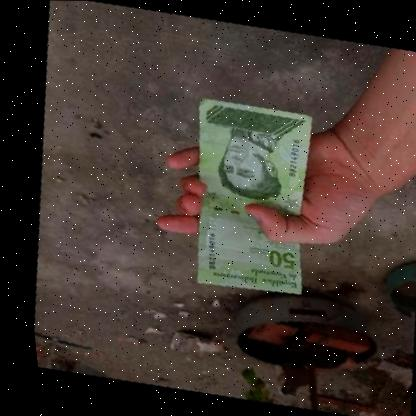fifty-front-vef: (148, 86, 343, 309)
